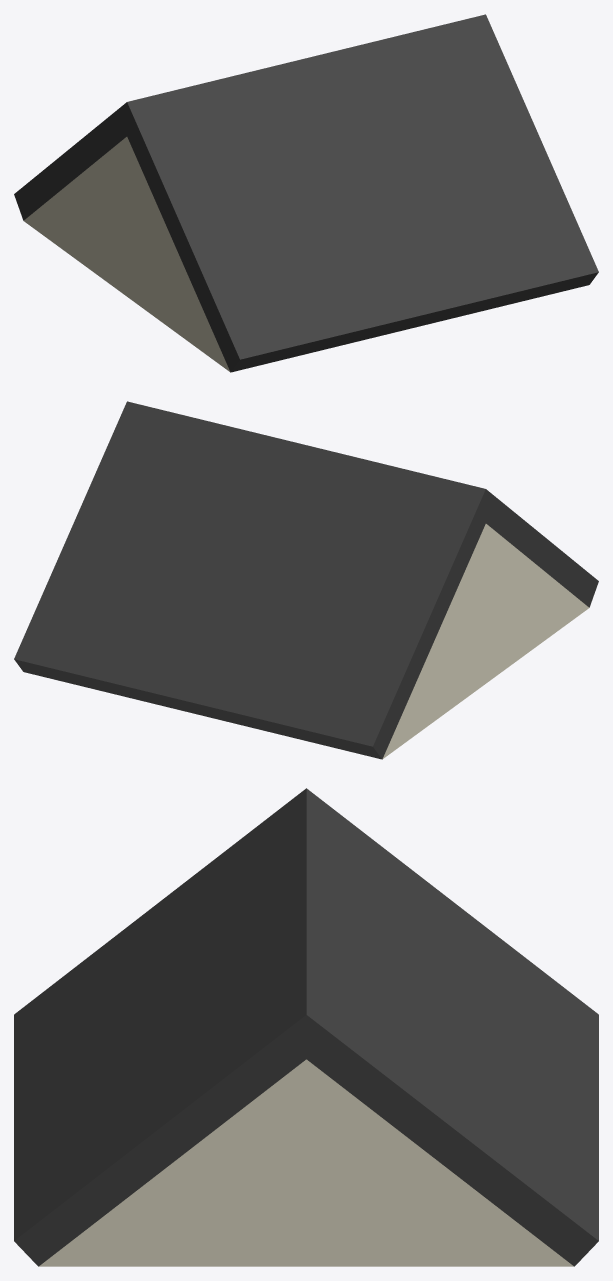
Rendered from roof4.obj.
3 renders of one model, top to bottom at view 1: azimuth 30°, elevation 25°; view 2: azimuth 150°, elevation 25°; view 3: azimuth 270°, elevation 25°, orthographic. The views are drawn at different scales.
Visible parts, largest first — view 1: roof4; view 2: roof4; view 3: roof4.
Boxes of the visible parts, x1,y1,x2,y2 form: roof4: (14,14,598,372); roof4: (14,401,598,759); roof4: (14,788,598,1266).
Bounding box in the file's own units: 1 × 0.5188 × 1.09.
